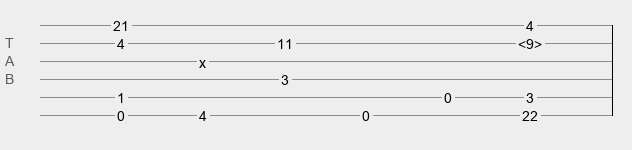0: (117, 108, 125, 118), (362, 108, 370, 118), (444, 90, 452, 100)
1: (117, 90, 125, 100)
11: (277, 36, 293, 46)
21: (113, 18, 129, 28)
22: (522, 108, 538, 118)
3: (281, 72, 289, 82), (526, 90, 534, 100)
4: (117, 36, 125, 46), (199, 108, 207, 118), (526, 18, 534, 28)
harmonic: (518, 36, 542, 46)
x: (199, 55, 206, 63)
